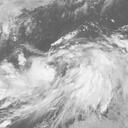cyclone: (30, 46, 112, 114)
